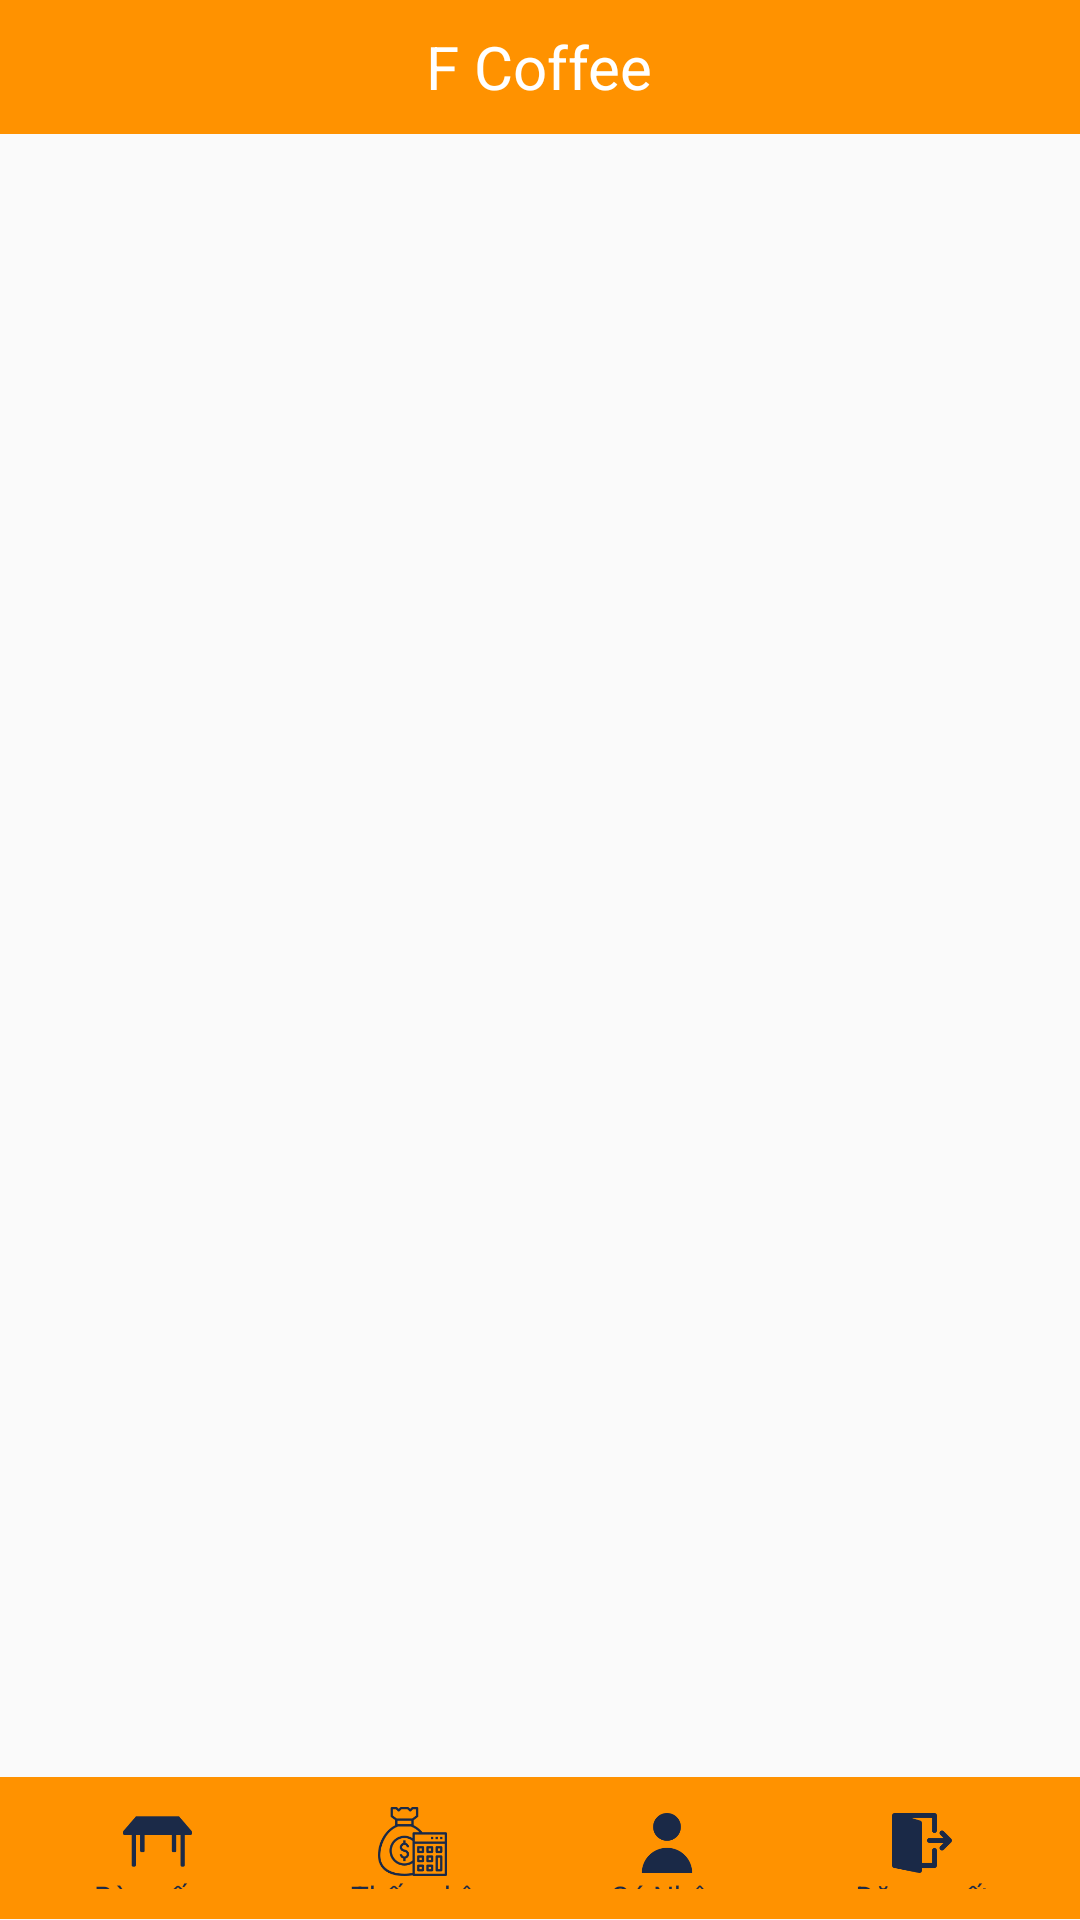

Icons on this 1080*1920 Android screen, each with the point to tap as (x,y):
account: (667,1843)
table: (157,1841)
